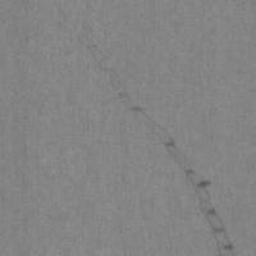Water spot: (79, 36, 238, 256)
